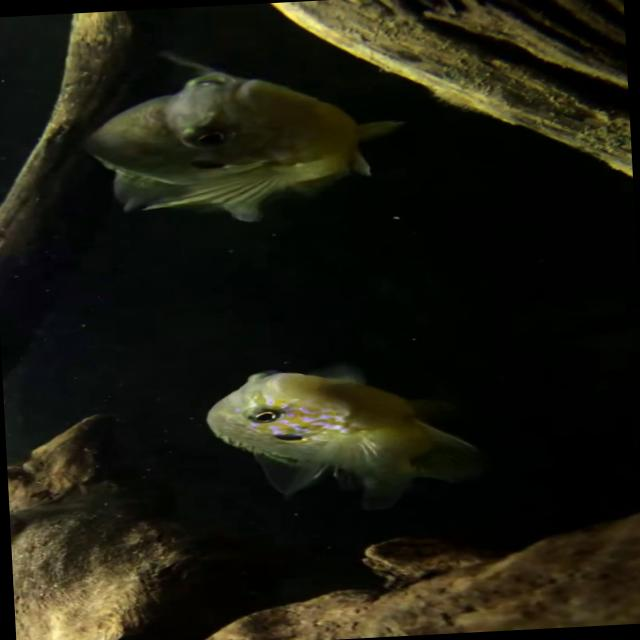Gunes Levregi: (76, 38, 408, 232), (201, 358, 488, 516)
